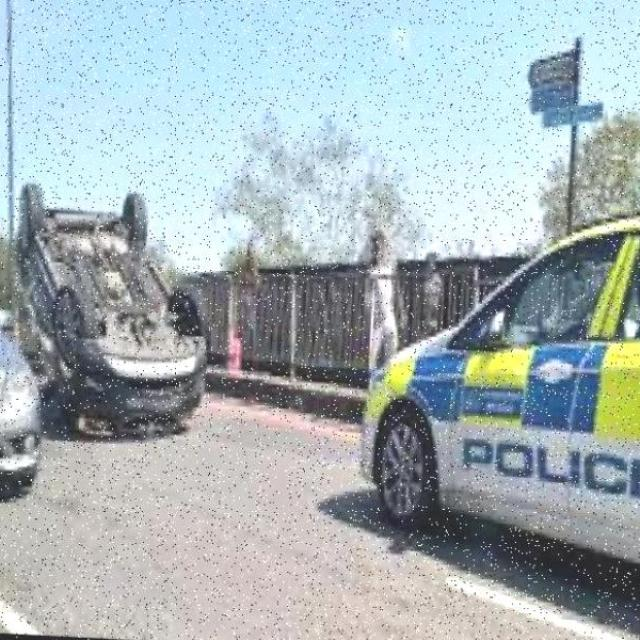accident: (0, 177, 261, 443)
